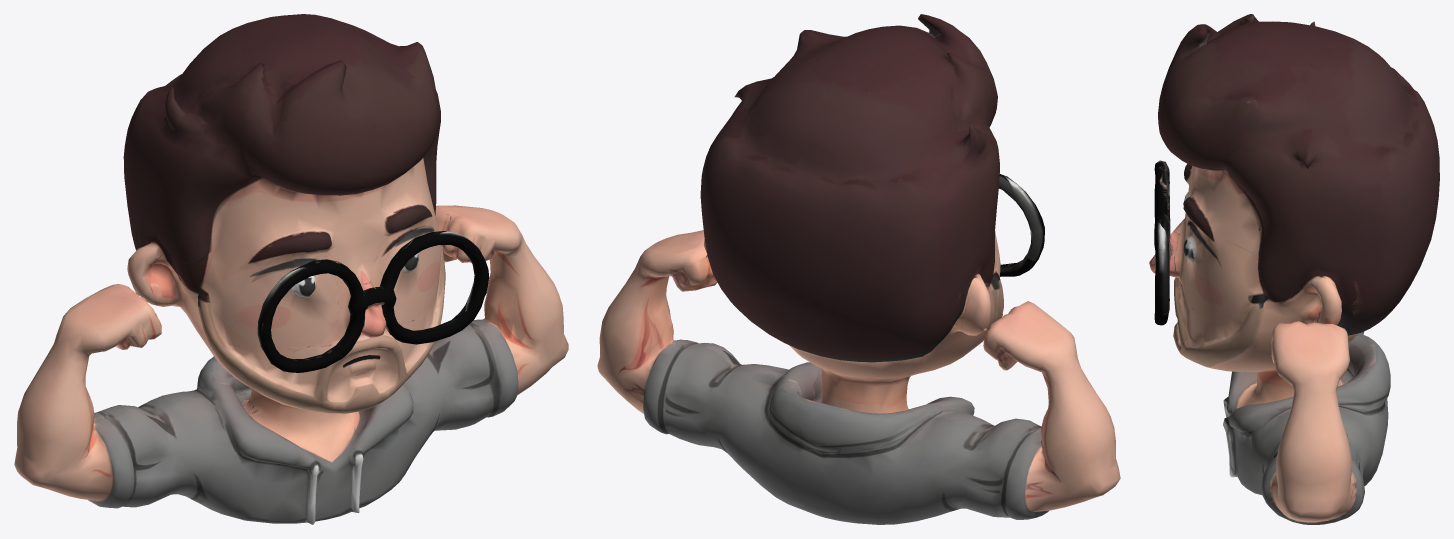
Rendered from erim.glb.
3 renders of one model, left to right at view 1: azimuth 30°, elevation 25°; view 2: azimuth 150°, elevation 25°; view 3: azimuth 270°, elevation 25°, orthographic. The views are drawn at different scales.
Visible parts, largest first — view 1: Object_4; view 2: Object_4; view 3: Object_4.
Part boxes in pixels (bbox=[...]): Object_4: bbox=[14, 14, 568, 524]; Object_4: bbox=[597, 14, 1120, 524]; Object_4: bbox=[1149, 14, 1439, 524].
Size of the model in its own units: 2 by 1.69 by 1.02.
1 material, 1 textured.
